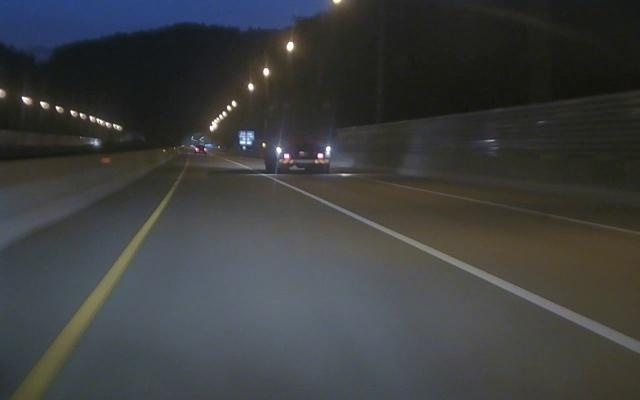lane: (273, 178, 637, 352), (8, 191, 171, 399), (413, 187, 640, 236)
